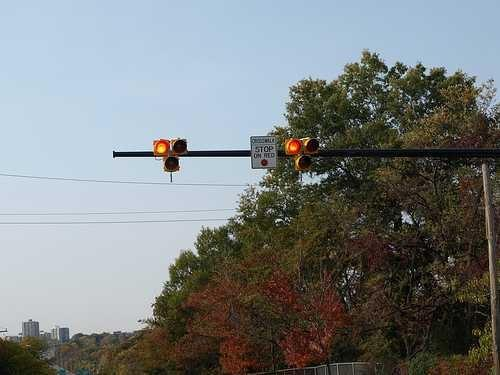red: (153, 131, 190, 174), (285, 136, 320, 174), (154, 135, 171, 156), (284, 135, 301, 154)
